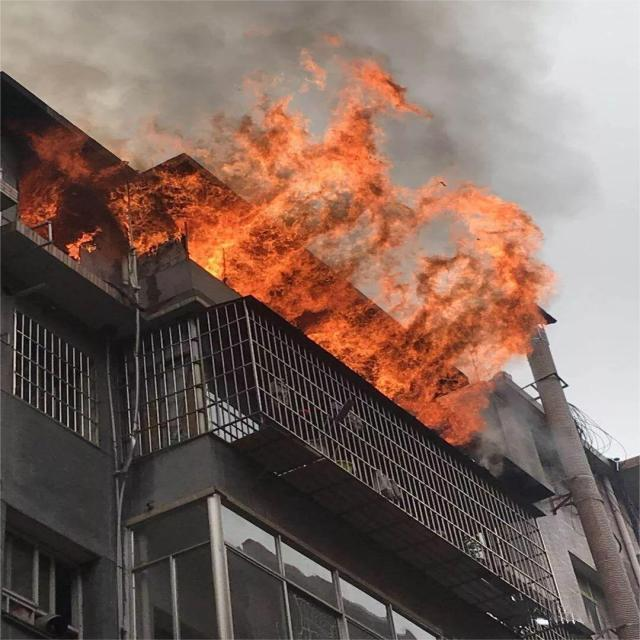Fire: (24, 54, 536, 260), (238, 260, 546, 444)
